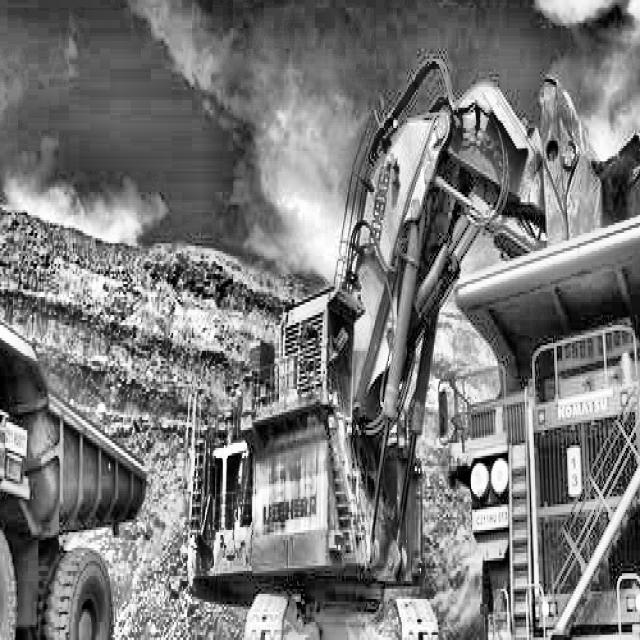dump_truck: (455, 228, 640, 640), (0, 274, 150, 640)
